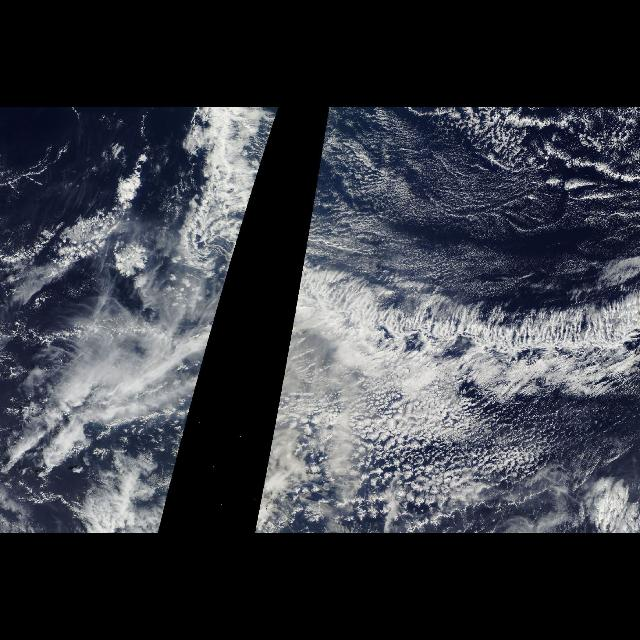Fish: (297, 273, 638, 405)
Flower: (352, 402, 492, 516)
Sugar: (298, 110, 636, 300)
